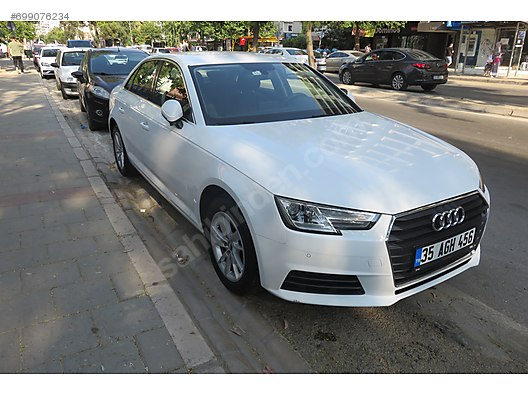audi: (427, 206, 470, 232)
